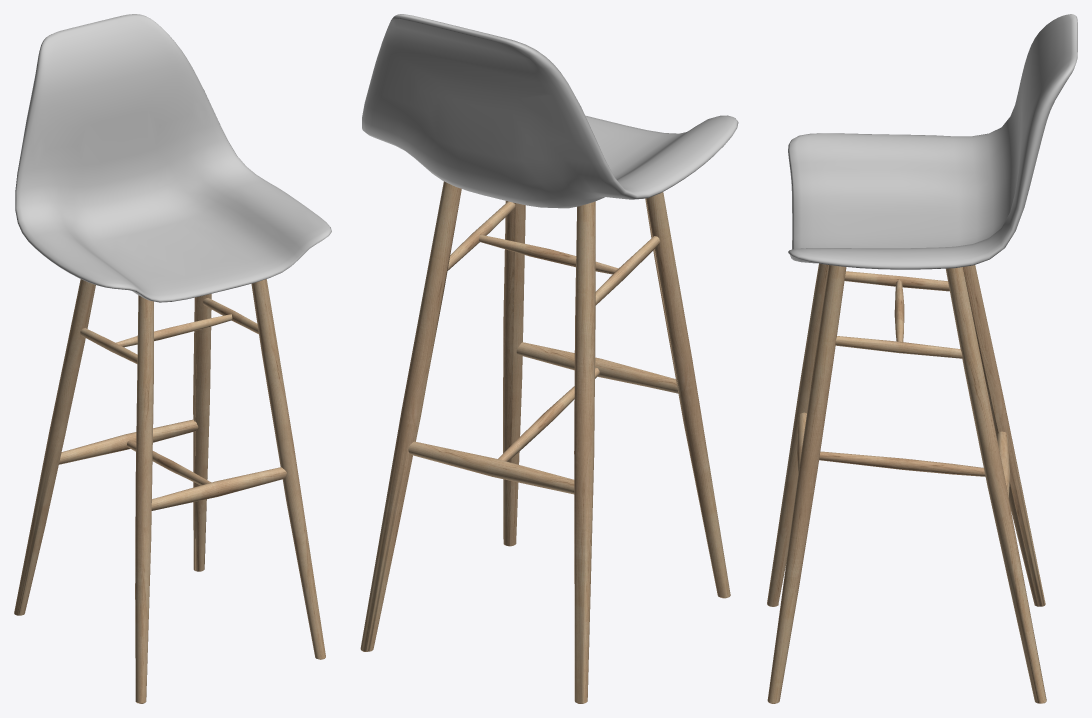
The model's file is Chair 3.FBX.
3 renders of one model, left to right at view 1: azimuth 30°, elevation 25°; view 2: azimuth 150°, elevation 25°; view 3: azimuth 270°, elevation 25°, orthographic. The views are drawn at different scales.
Parts seen in each view (by area): view 1: chair 3; view 2: chair 3; view 3: chair 3.
Boxes of the visible parts, <box> form: chair 3: <box>14,14,331,703</box>; chair 3: <box>360,14,738,703</box>; chair 3: <box>767,14,1077,703</box>.
Bounding box in the file's own units: 44.35 × 95.95 × 43.92.
